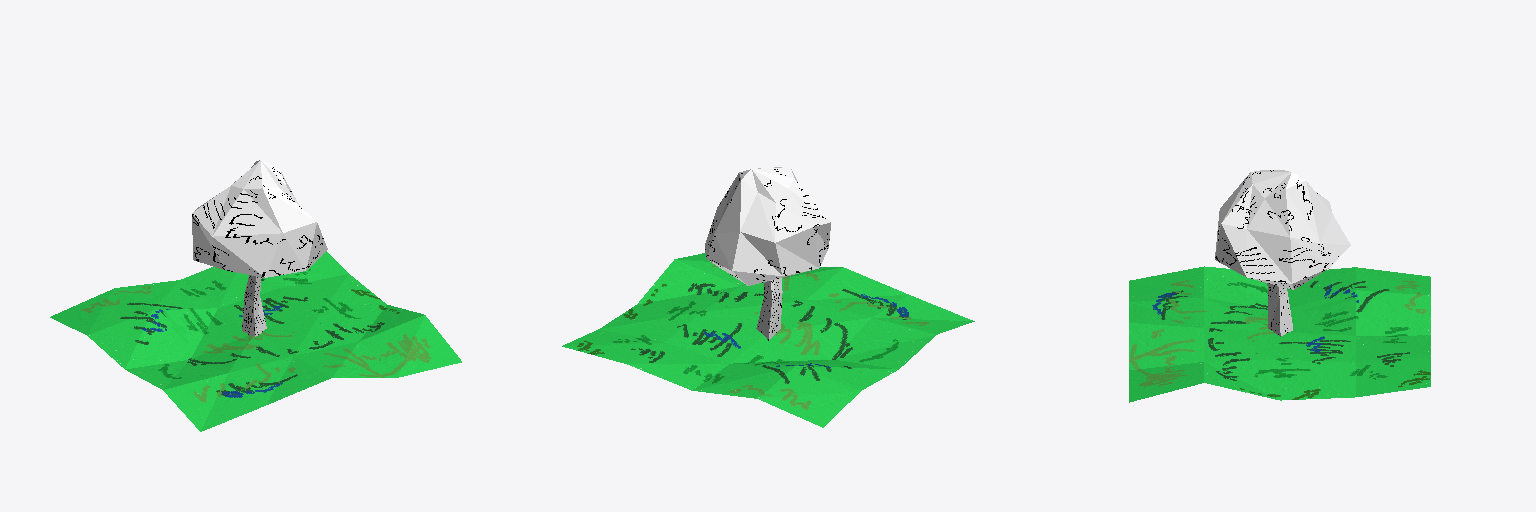
The picture shows the model from 3 angles: view 1: azimuth 30°, elevation 25°; view 2: azimuth 150°, elevation 25°; view 3: azimuth 270°, elevation 25°; orthographic projection.
Parts seen in each view (by area): view 1: sol, arbre_feuillage, arbre_tronc; view 2: sol, arbre_feuillage, arbre_tronc; view 3: sol, arbre_feuillage, arbre_tronc.
Part boxes in pixels (x1,y1,x2,y2): sol: (50,251,461,431); arbre_feuillage: (192,160,327,277); arbre_tronc: (242,275,266,336); sol: (562,253,974,427); arbre_feuillage: (705,167,830,285); arbre_tronc: (756,278,782,340); sol: (1129,266,1430,402); arbre_feuillage: (1215,170,1350,289); arbre_tronc: (1267,283,1292,336).
Size of the model in its own units: 400 by 259 by 400.
3 materials, 3 textured.